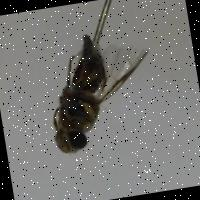Oriental-fruit-fly: (29, 18, 166, 168)
